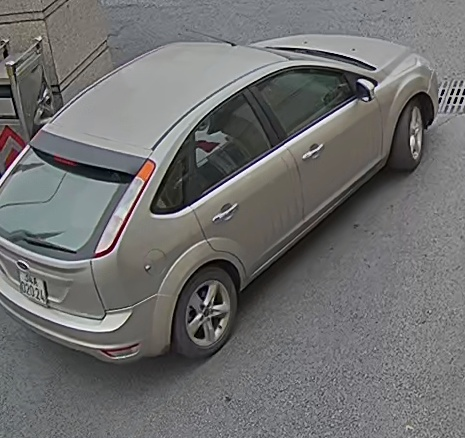vehicle plate: (12, 268, 51, 307)
